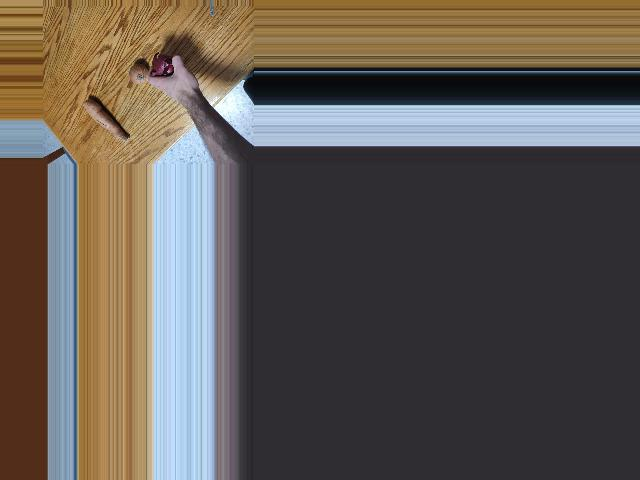onion: (127, 62, 152, 85)
